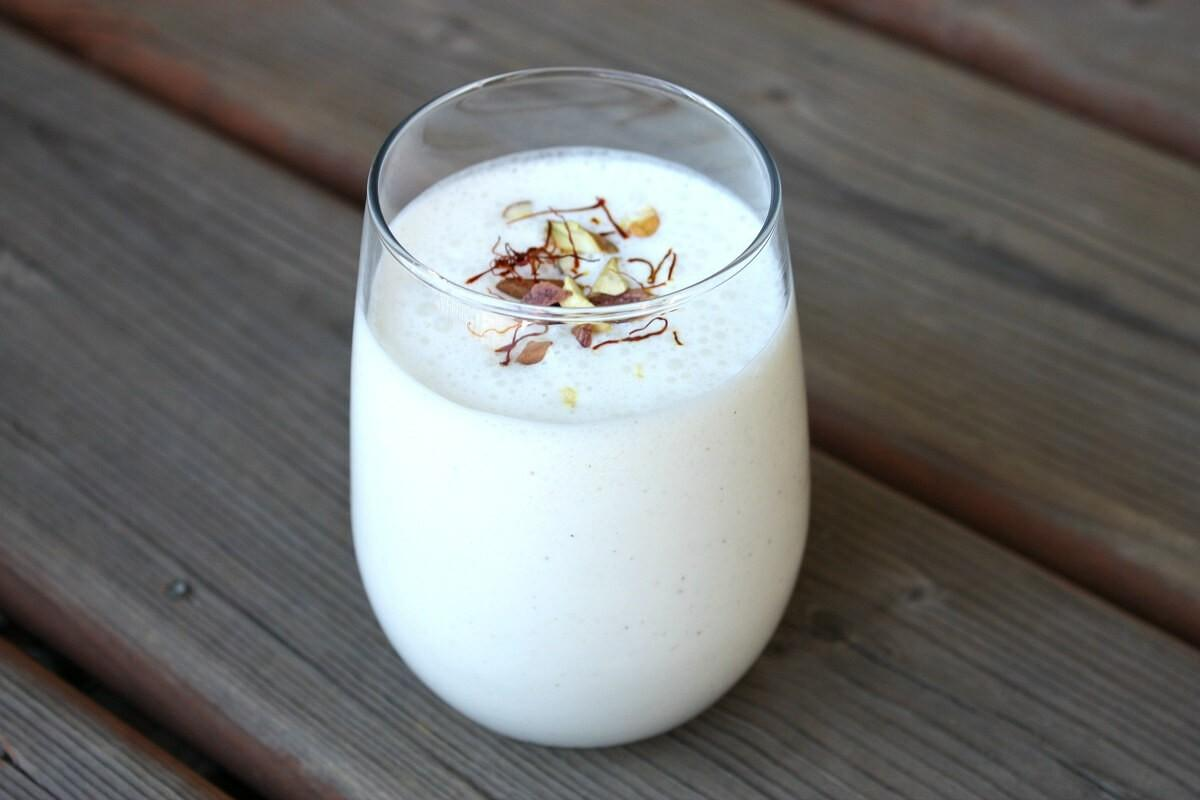Lassi: (341, 141, 806, 745)
